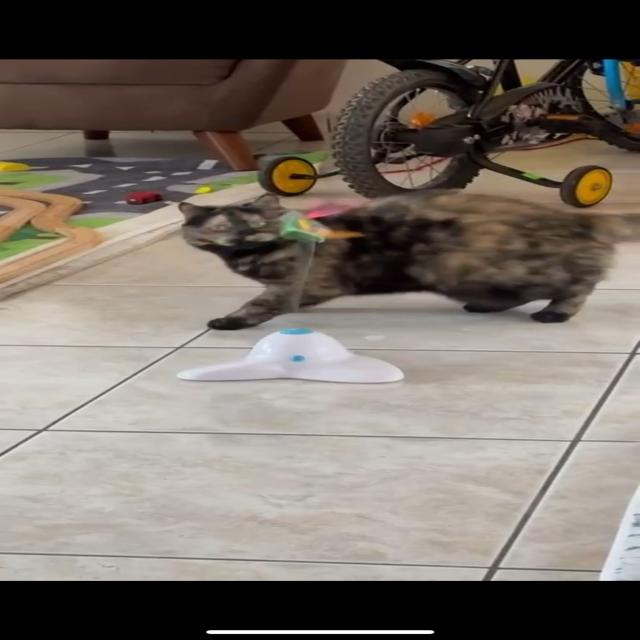authorized: (176, 188, 638, 330)
